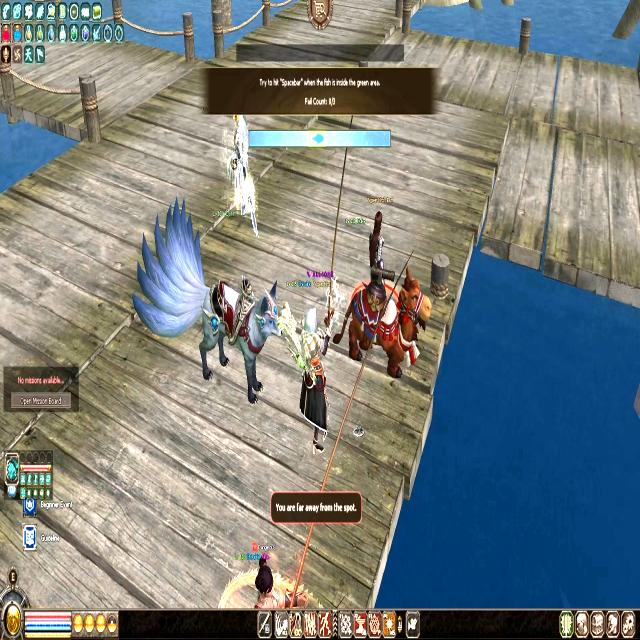fishes: (312, 133, 326, 144)
